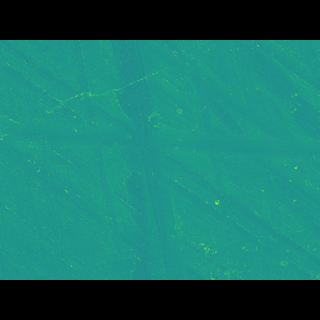Loch: (113, 69, 187, 250), (0, 128, 320, 162)
